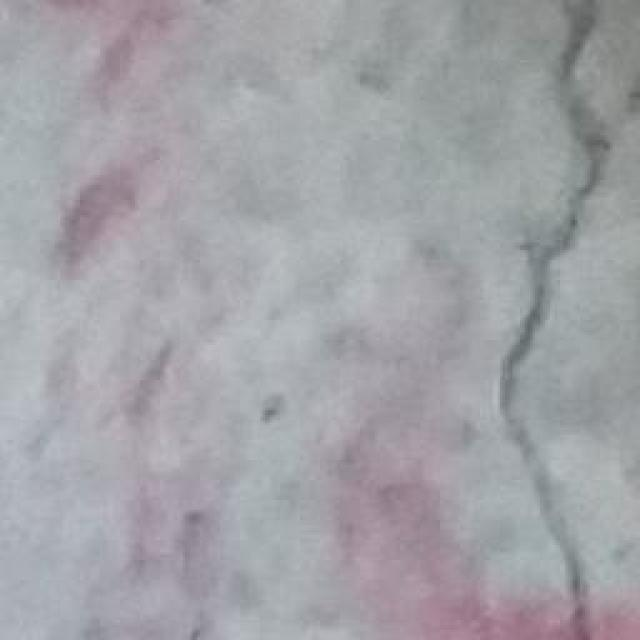Longitudinal: (490, 0, 640, 640)
